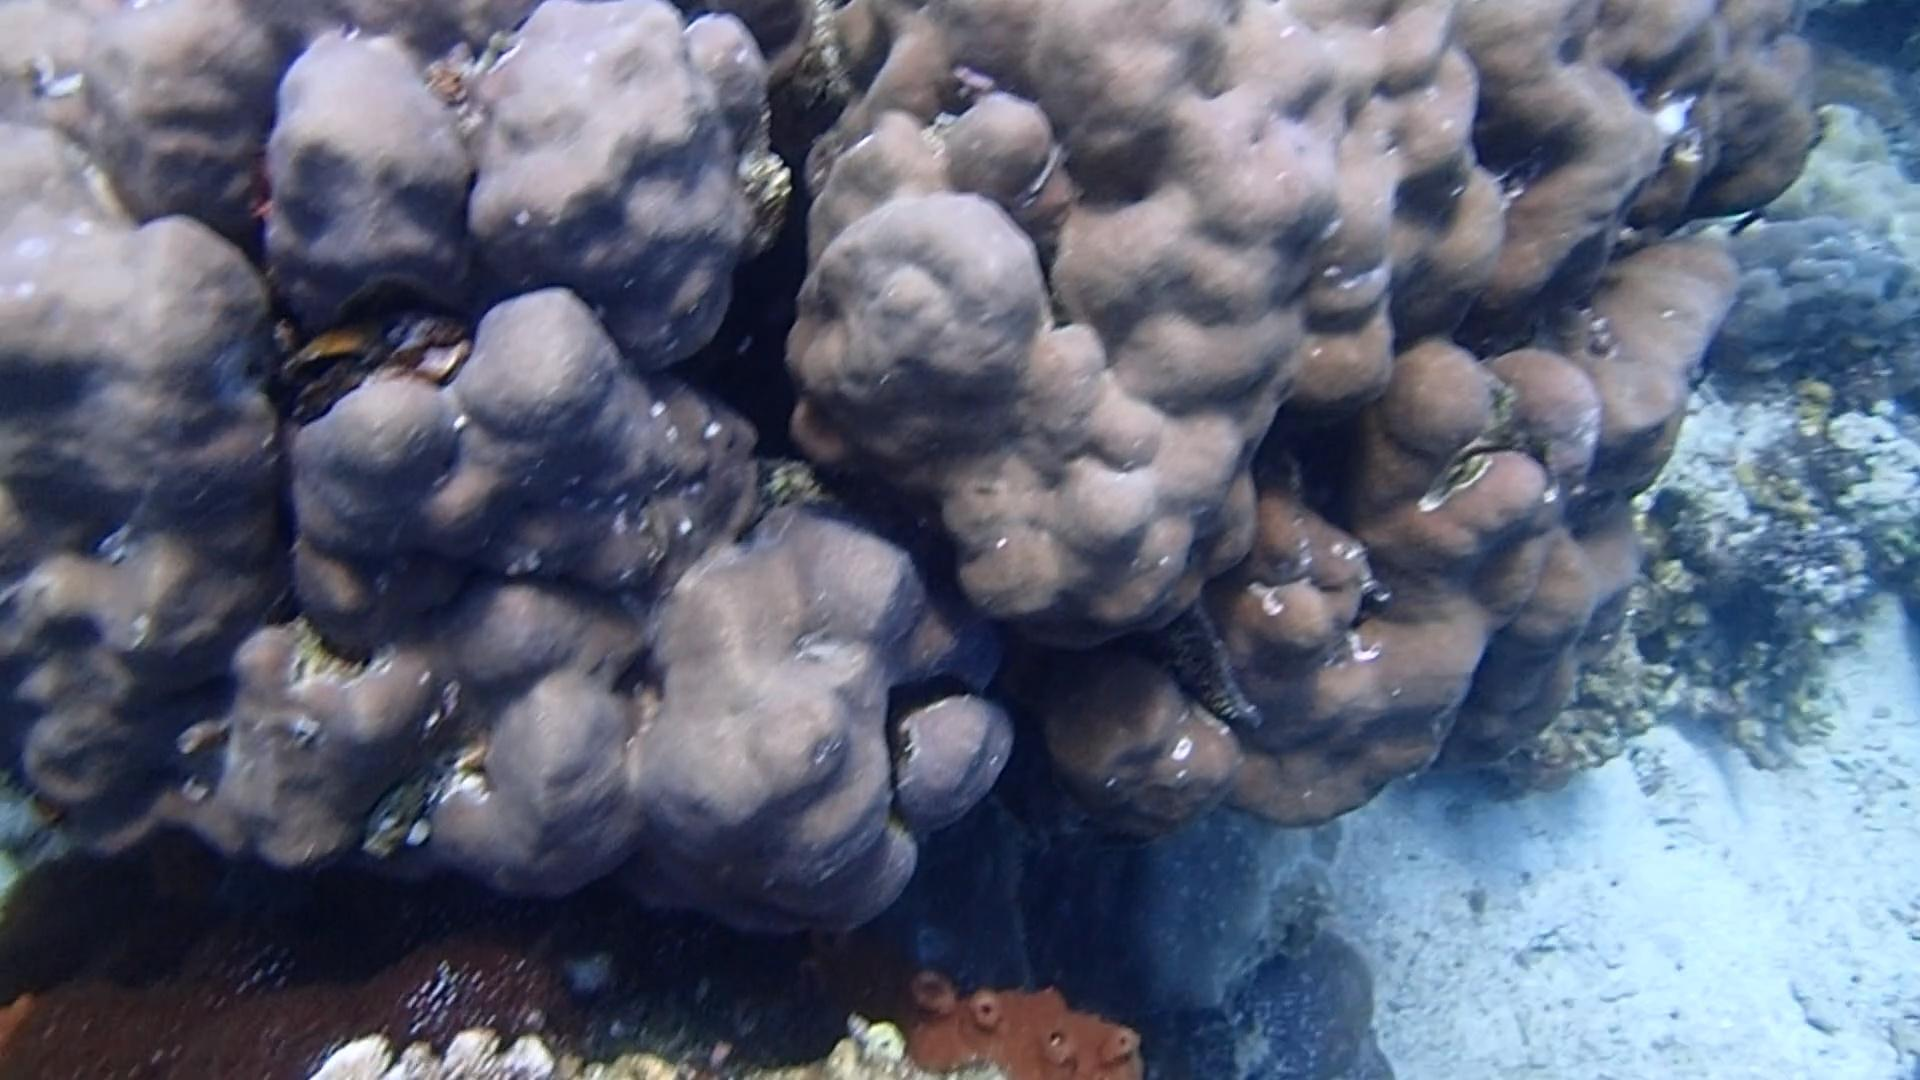Dark Fish: (1724, 207, 1766, 239)
